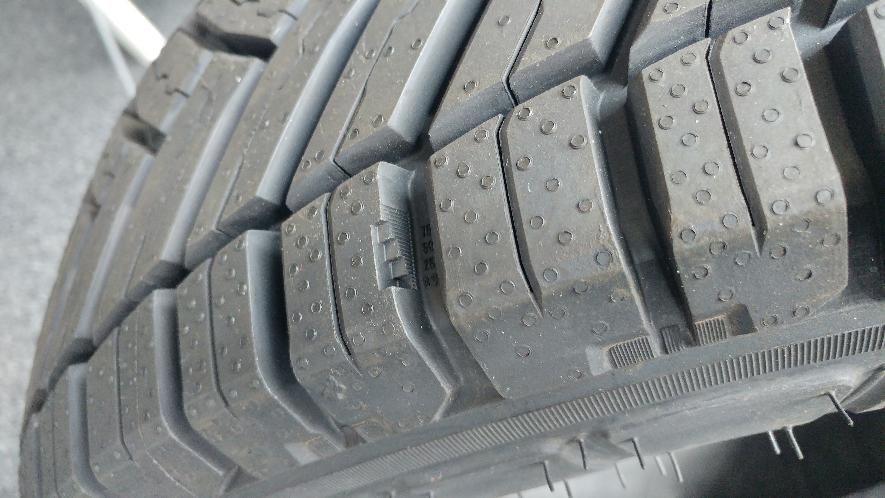temoin:100: (369, 203, 420, 294)
